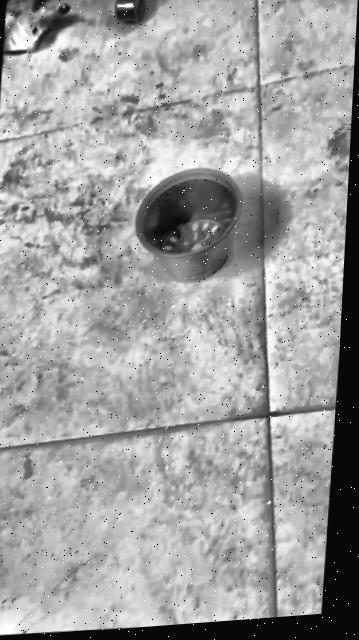pot: (130, 165, 243, 288)
